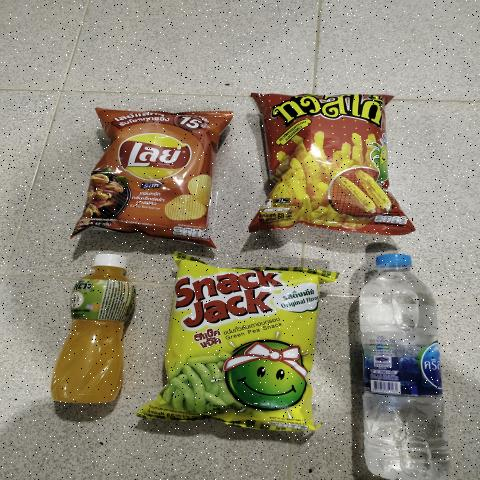crystal: (359, 296, 440, 470)
snack_jack: (181, 270, 306, 437)
twisco: (259, 92, 403, 234)
